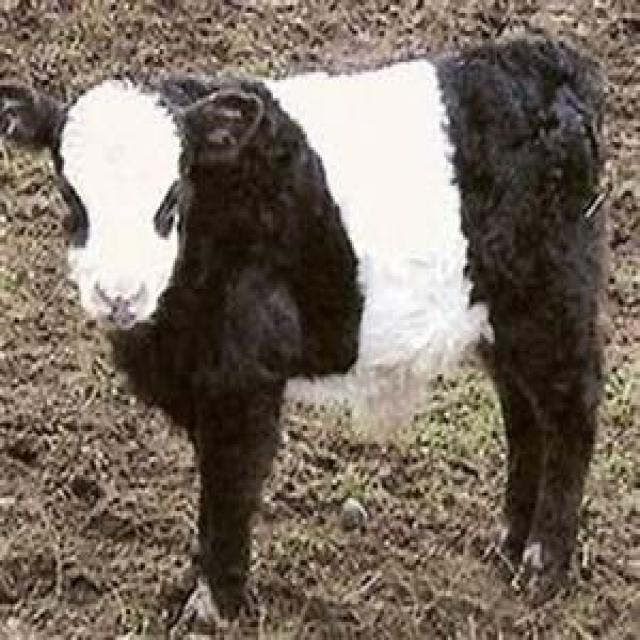cow: (55, 36, 606, 630)
